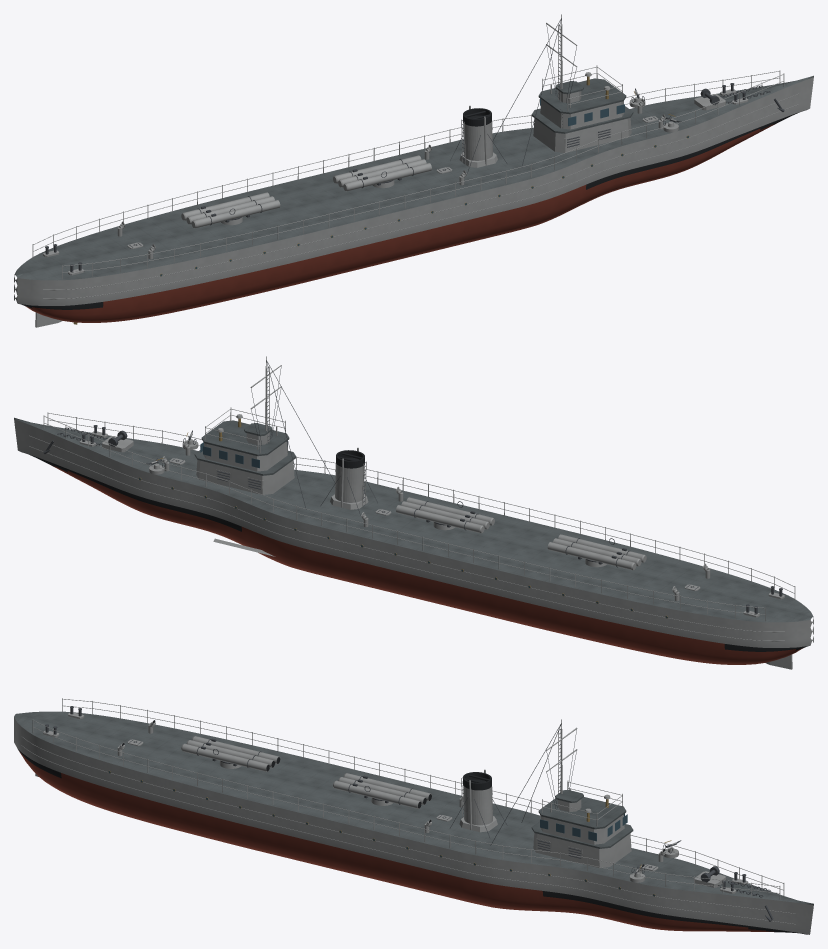
The model's file is ecole_pt32.glb.
The picture shows the model from 3 angles, top to bottom: view 1: azimuth 30°, elevation 25°; view 2: azimuth 150°, elevation 25°; view 3: azimuth 330°, elevation 25°; orthographic projection.
Parts seen in each view (by area): view 1: École coastal torpedo boat; view 2: École coastal torpedo boat; view 3: École coastal torpedo boat.
Part boxes in pixels (x1=…): École coastal torpedo boat: x1=14, y1=14, x2=813, y2=327; École coastal torpedo boat: x1=14, y1=356, x2=813, y2=669; École coastal torpedo boat: x1=14, y1=698, x2=813, y2=934.
Bounding box in the file's own units: 62 × 13.89 × 7.89.
Materials: 8 (7 with a texture image).
